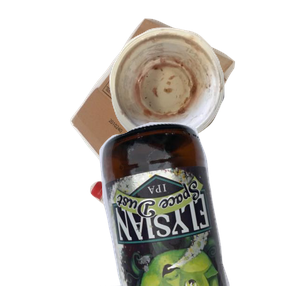cardboard: (67, 16, 295, 196)
glass: (97, 120, 300, 300)
plastic: (87, 178, 234, 300)
trash: (107, 25, 300, 162)
